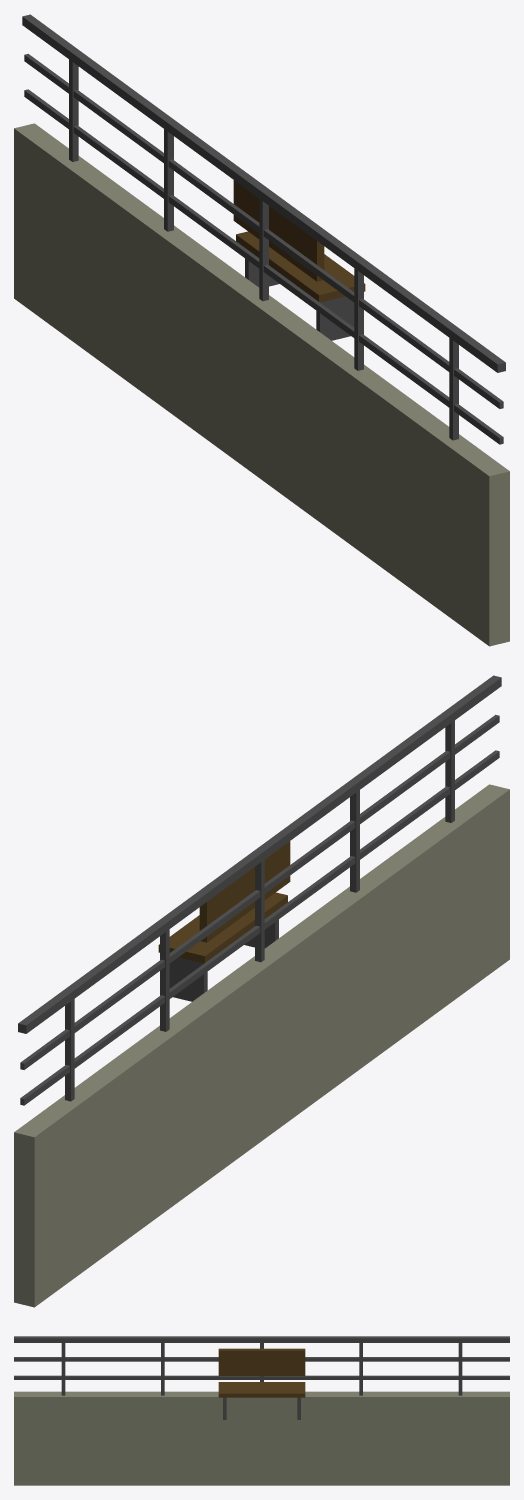
File: platform_wall.fbx
3 views of the same model, one above another, from view 1: azimuth 30°, elevation 25°; view 2: azimuth 150°, elevation 25°; view 3: azimuth 270°, elevation 25° (orthographic). The views are drawn at different scales.
Parts seen in each view (by area): view 1: p461_PlatformWall; view 2: p461_PlatformWall; view 3: p461_PlatformWall.
Boxes of the visible parts, <box> form: p461_PlatformWall: <box>14,14,509,646</box>; p461_PlatformWall: <box>14,675,509,1307</box>; p461_PlatformWall: <box>14,1336,509,1485</box>.
Size of the model in its own units: 0.7 by 2.6 by 8.
